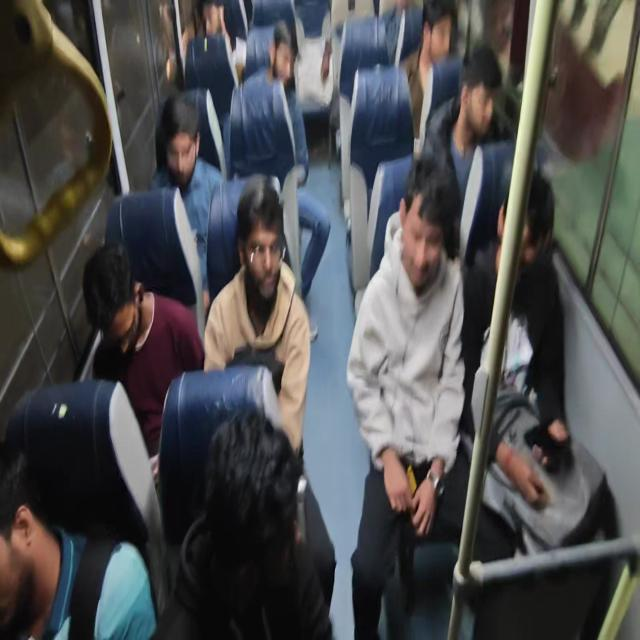person: (185, 402, 301, 624), (224, 170, 294, 317), (489, 161, 564, 296), (1, 427, 50, 628), (76, 239, 148, 369), (392, 172, 458, 298), (162, 91, 205, 196), (458, 45, 506, 133), (264, 18, 298, 92), (423, 1, 459, 68), (200, 0, 227, 40)
